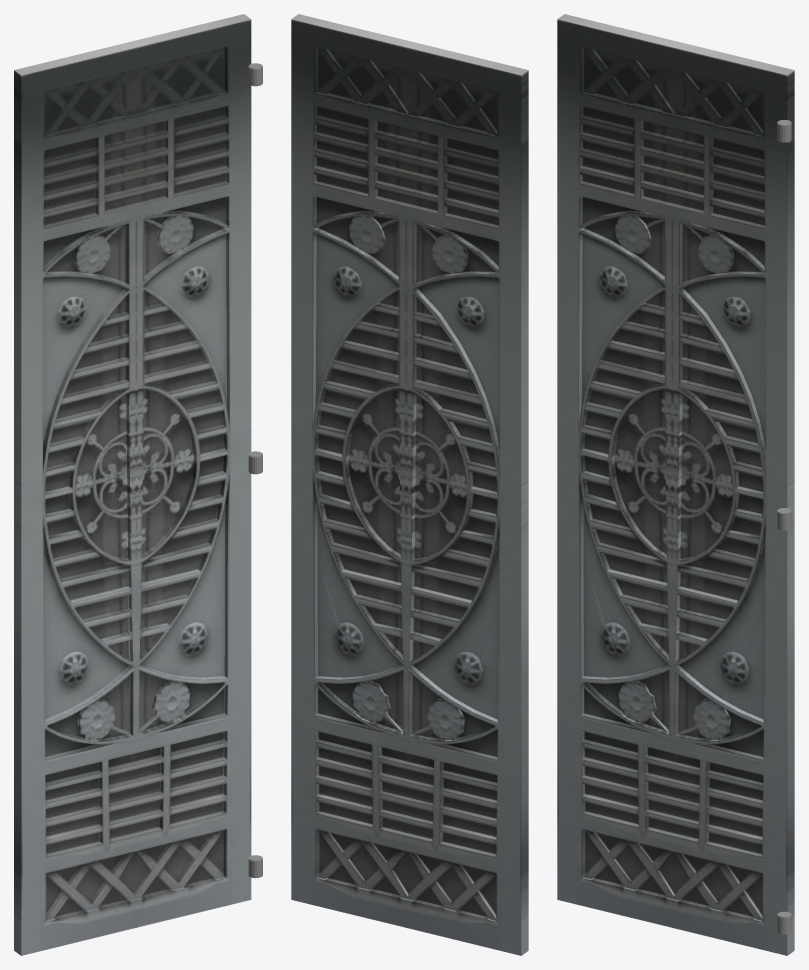
File: EntranceDoorRight1.fbx
3 views of the same model, side by side, from view 1: azimuth 30°, elevation 25°; view 2: azimuth 150°, elevation 25°; view 3: azimuth 330°, elevation 25° (orthographic).
Visible parts, largest first — view 1: EntranceDoorRight1; view 2: EntranceDoorRight1; view 3: EntranceDoorRight1.
Part boxes in pixels (x1,y1,x2,y2): EntranceDoorRight1: [14, 14, 262, 955]; EntranceDoorRight1: [291, 14, 528, 955]; EntranceDoorRight1: [557, 14, 794, 955].
Size of the model in its own units: 95.35 by 338 by 10.16.
Materials: 2 (1 with a texture image).
